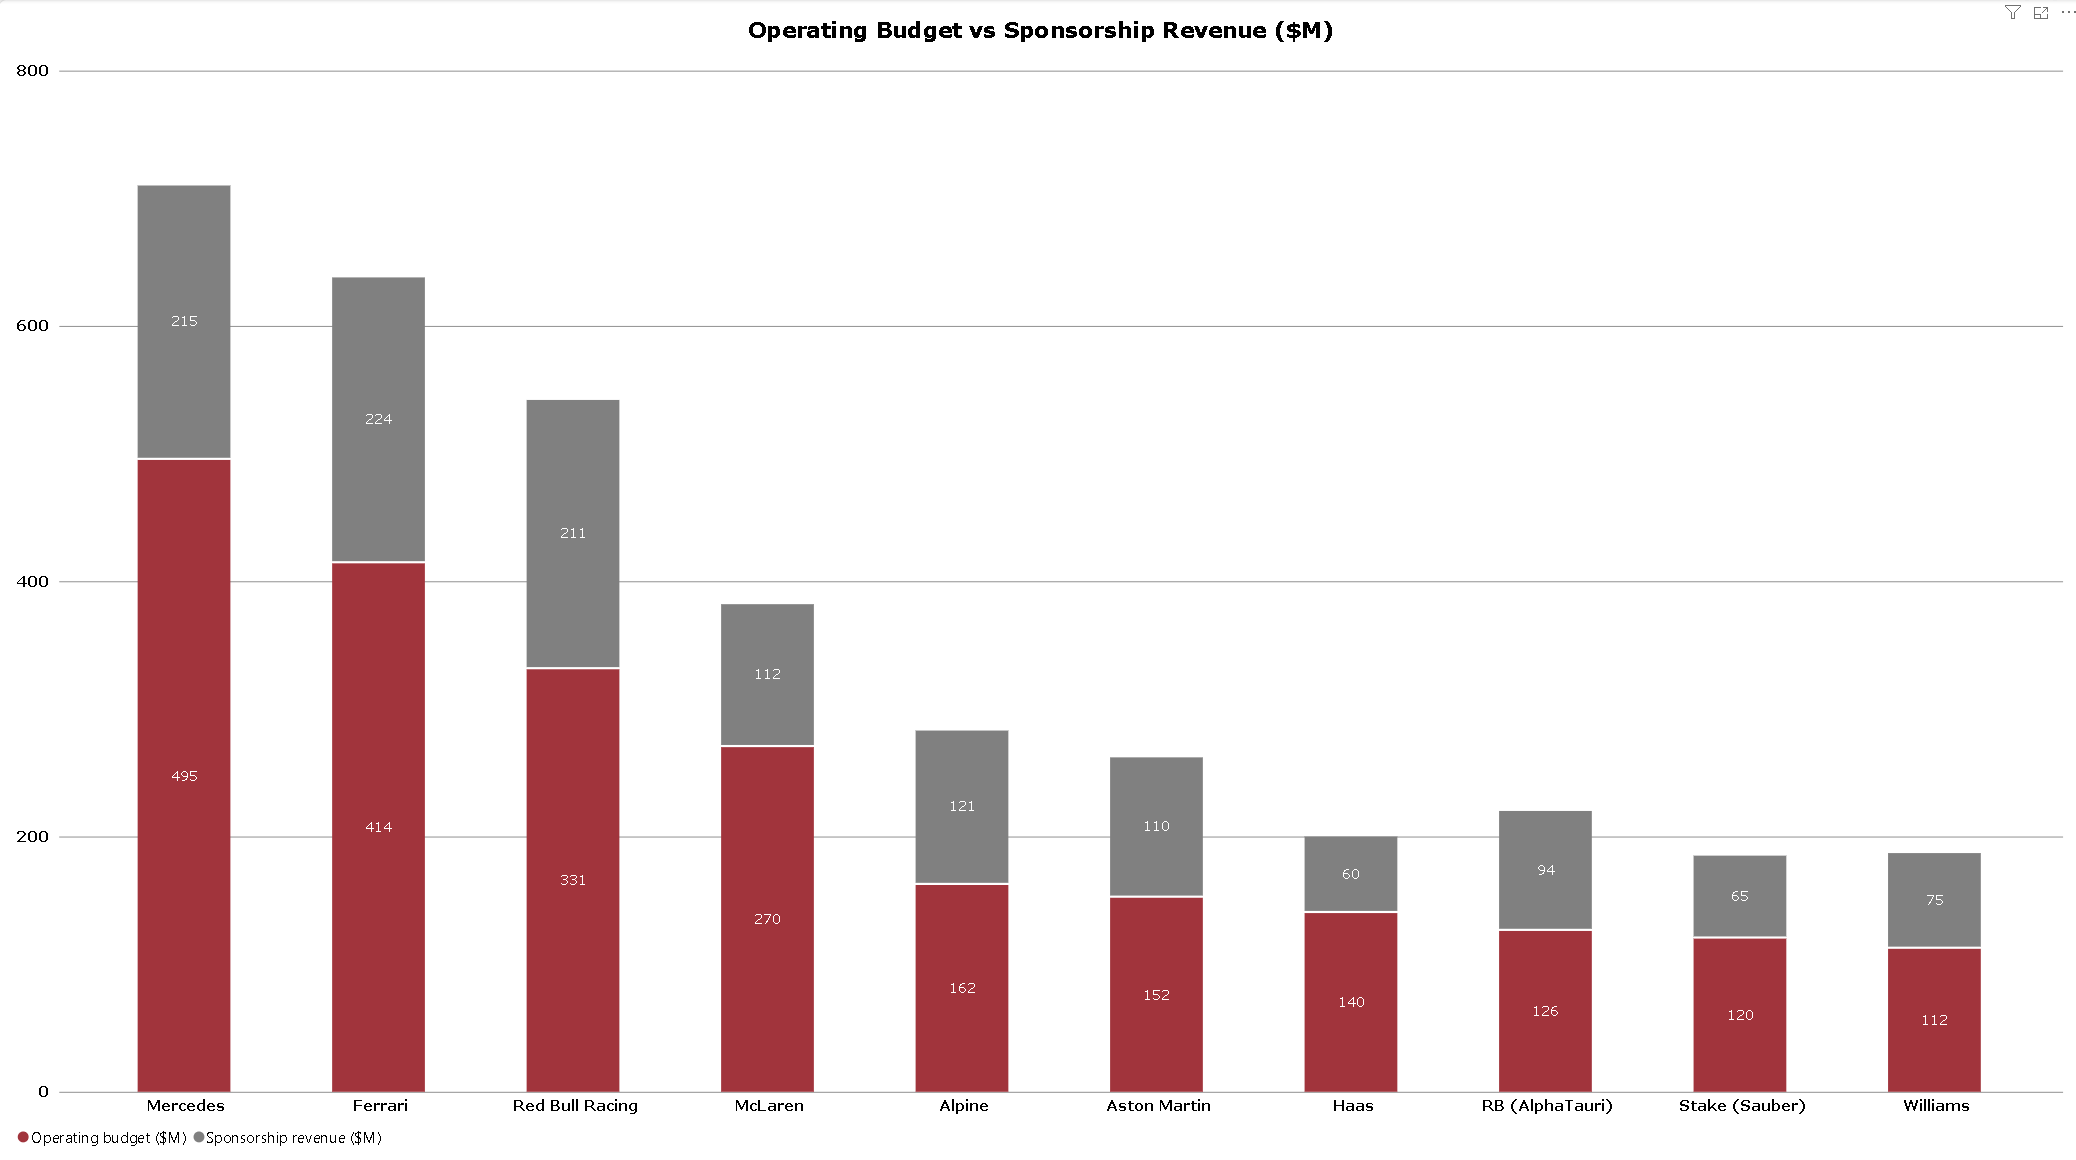

The page's visual inventory and layout, read from the dashboard file:
{"tool":"powerbi","page":{"name":"Page 2","canvas":[1920,1080],"ordinal":2},"visuals":[{"type":"columnChart","title":"Operating Budget vs Sponsorship Revenue ($M)","fields":{"Category":["constructor_finances.team_name"],"Y":["Sum(constructor_finances.operating_budget_usd_m)","Sum(constructor_finances.sponsorship_revenue_usd_m)"]},"box":[0,0,1920,1080],"z":0}]}

Visuals, with their boxes in screenshot pixels (x1, y1, x2, y2), scaled from the page's 1920x1080 canvas onto the 2076x1160 screenshot:
"Operating Budget vs Sponsorship Revenue ($M)" columnChart: detection(0, 0, 2075, 1159)
